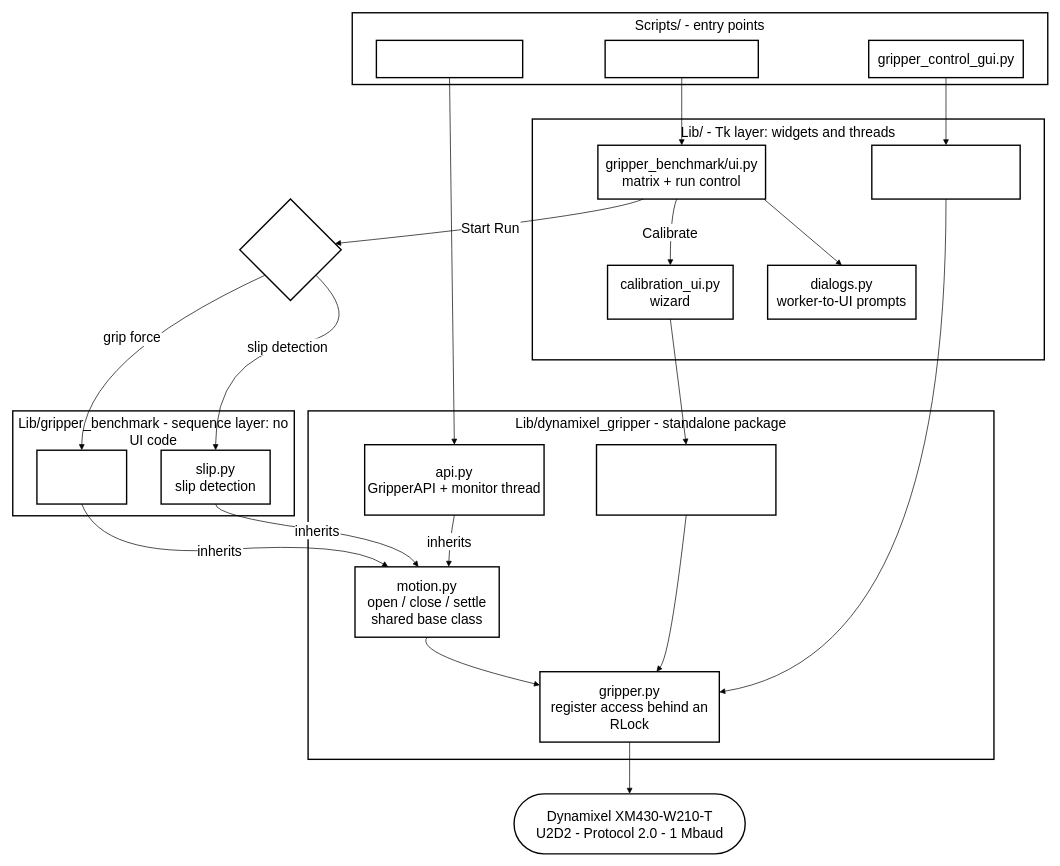
Image size: 1060x866. Some labels were removed from this diagram. Each missing label, with the centre of its shape:
"calibration.py travel-limit discovery" goes at pixel 685 479.
"gripper_api_demo.py" goes at pixel 449 58.
"gripper_benchmark.py" goes at pixel 681 58.
"gripper_control_ui.py sliders + poll thread" goes at pixel 946 171.
"runner.py grip force" goes at pixel 81 476.
"selected test" goes at pixel 290 249.
